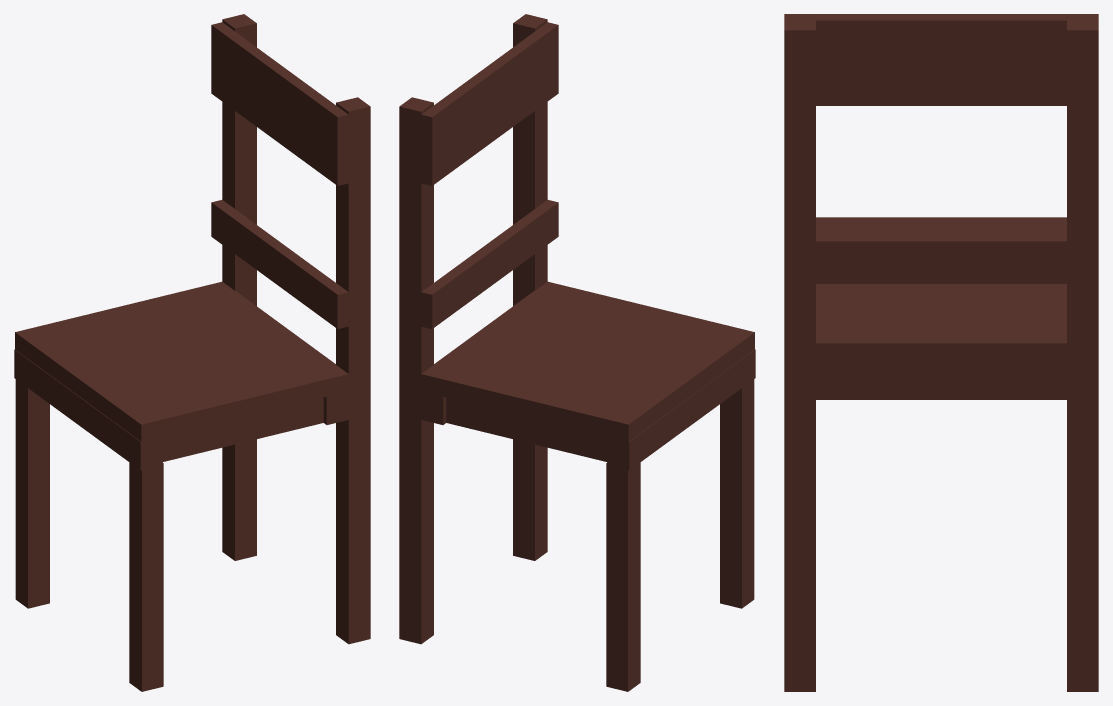
Rendered from School Chairs.glb.
3 views of the same model, side by side, from view 1: azimuth 30°, elevation 25°; view 2: azimuth 150°, elevation 25°; view 3: azimuth 270°, elevation 25° (orthographic). The views are drawn at different scales.
Parts seen in each view (by area): view 1: seat, id8, back, id11, id3, id6, backConnect, bellowFront, bellowRight, bellowBack; view 2: seat, id11, back, id8, id6, id3, backConnect, bellowFront, bellowLeft, bellowBack; view 3: seat, back, id8, id11, backConnect, bellowBack.
Boxes of the visible parts, left/top/right/bottom form: seat: left=15, top=281, right=349, bottom=441; id8: left=336, top=97, right=370, bottom=644; back: left=211, top=22, right=348, bottom=185; id11: left=222, top=14, right=256, bottom=560; id3: left=129, top=462, right=163, bottom=691; id6: left=15, top=379, right=49, bottom=608; backConnect: left=211, top=200, right=348, bottom=328; bellowFront: left=14, top=349, right=162, bottom=470; bellowRight: left=162, top=397, right=323, bottom=461; bellowBack: left=323, top=391, right=348, bottom=424; seat: left=421, top=281, right=754, bottom=441; id11: left=399, top=97, right=433, bottom=644; back: left=421, top=22, right=558, bottom=185; id8: left=513, top=14, right=547, bottom=560; id6: left=606, top=462, right=640, bottom=691; id3: left=720, top=379, right=754, bottom=608; backConnect: left=421, top=200, right=558, bottom=328; bellowFront: left=607, top=349, right=755, bottom=470; bellowLeft: left=446, top=397, right=607, bottom=461; bellowBack: left=421, top=391, right=446, bottom=424; seat: left=816, top=217, right=1066, bottom=364; back: left=784, top=14, right=1098, bottom=105; id8: left=784, top=17, right=815, bottom=691; id11: left=1067, top=17, right=1098, bottom=691; backConnect: left=816, top=234, right=1066, bottom=283; bellowBack: left=816, top=364, right=1066, bottom=399.
Bounding box in the file's own units: 0.42 × 0.93 × 0.4.
